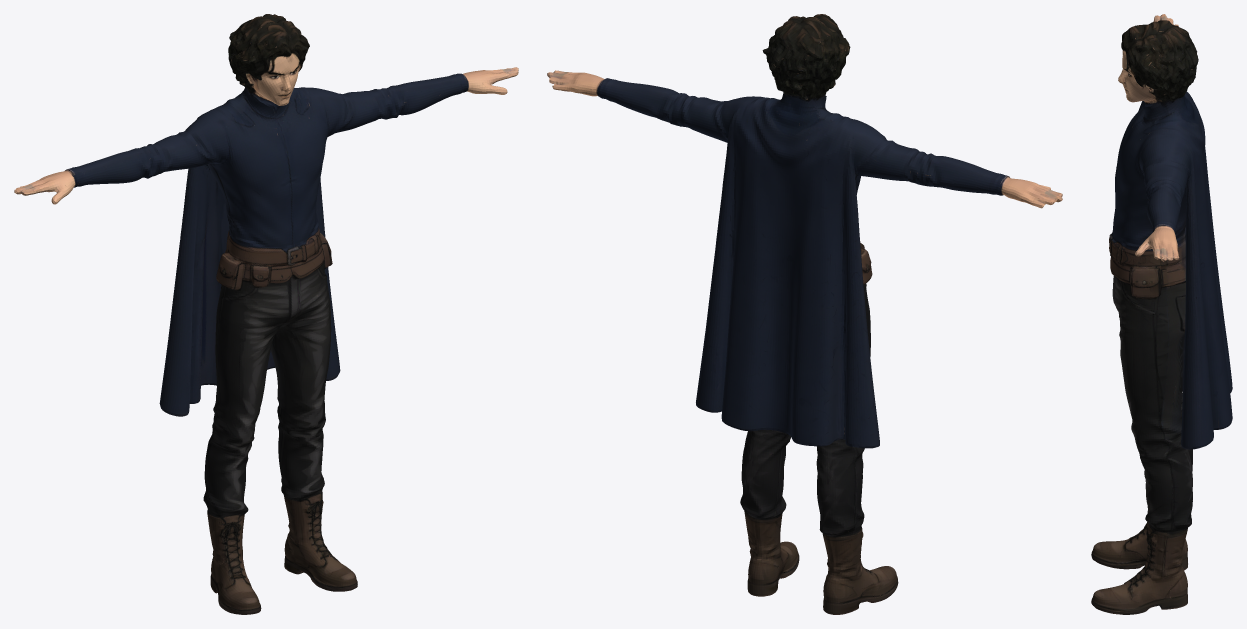
File: male-FOR-MIXAMO.fbx
3 renders of one model, left to right at view 1: azimuth 30°, elevation 25°; view 2: azimuth 150°, elevation 25°; view 3: azimuth 270°, elevation 25°, orthographic. The views are drawn at different scales.
Visible parts, largest first — view 1: Mesh_0; view 2: Mesh_0; view 3: Mesh_0.
Boxes of the visible parts, bbox=[...] form: Mesh_0: bbox=[14, 14, 518, 614]; Mesh_0: bbox=[547, 14, 1062, 614]; Mesh_0: bbox=[1091, 14, 1232, 614].
Size of the model in its own units: 1.79 by 1.91 by 0.4355.
Materials: 1 (1 with a texture image).
